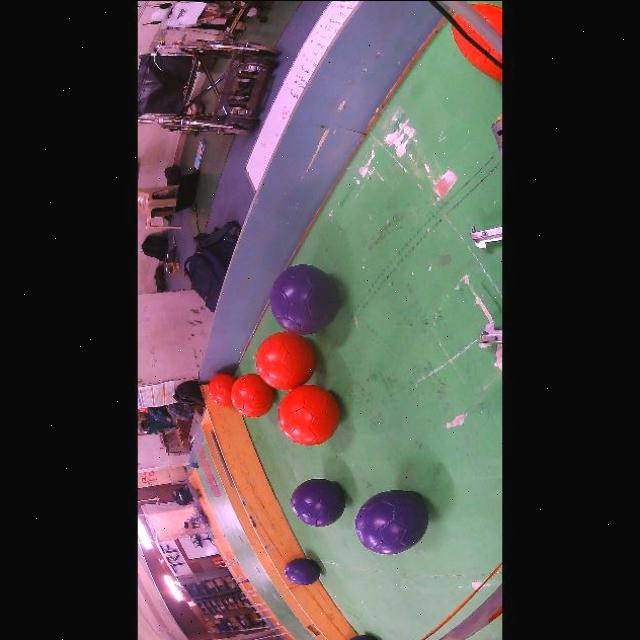P: (271, 264, 338, 334), (355, 490, 429, 553), (291, 478, 345, 525), (285, 557, 320, 585)
R: (278, 383, 340, 444), (255, 330, 316, 390), (231, 373, 274, 416), (209, 373, 235, 405)
